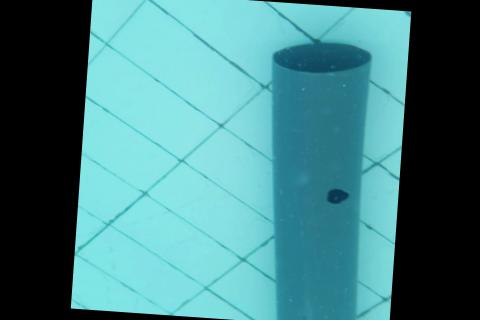kebocoran: (324, 189, 347, 206)
